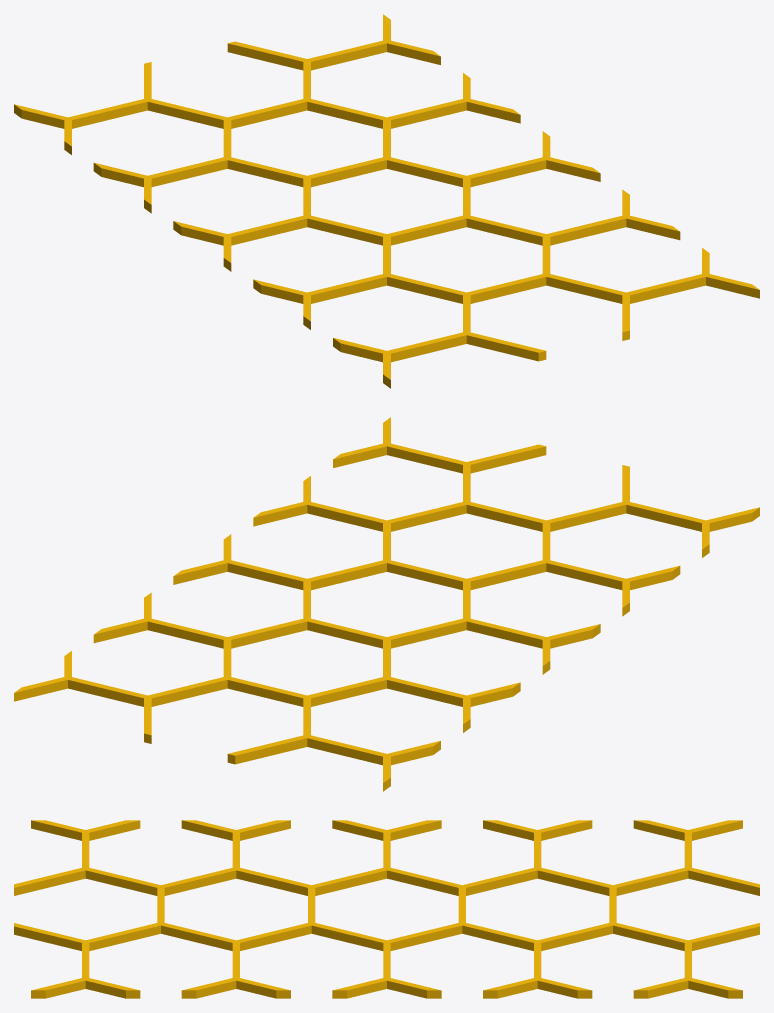
File: Card_2.fbx
3 renders of one model, top to bottom at view 1: azimuth 30°, elevation 25°; view 2: azimuth 150°, elevation 25°; view 3: azimuth 270°, elevation 25°, orthographic. The views are drawn at different scales.
Parts seen in each view (by area): view 1: 개체_1; view 2: 개체_1; view 3: 개체_1.
Boxes of the visible parts, box(x1,y1,x2,y2) form: 개체_1: box(14, 14, 759, 388); 개체_1: box(14, 417, 759, 791); 개체_1: box(14, 820, 759, 998).
Size of the model in its own units: 11.06 by 20.5 by 0.25.
